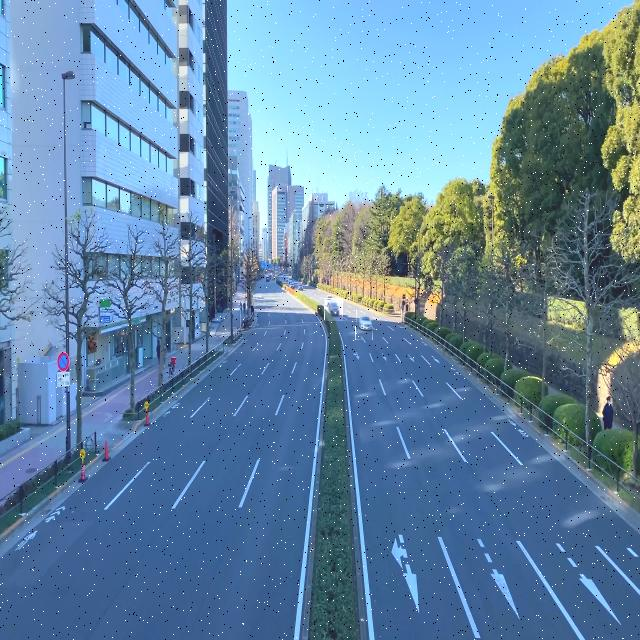Car: (356, 310, 373, 340), (325, 298, 343, 321)
